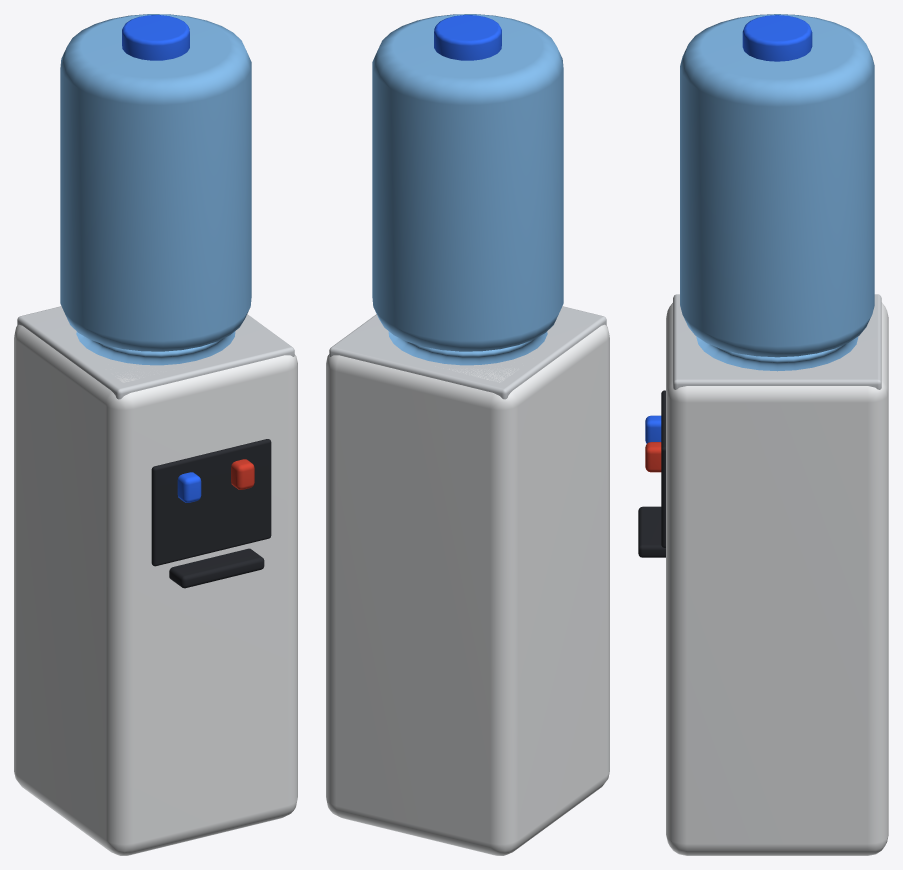
File: watercooler.glb
3 views of the same model, side by side, from view 1: azimuth 30°, elevation 25°; view 2: azimuth 150°, elevation 25°; view 3: azimuth 270°, elevation 25° (orthographic).
Parts seen in each view (by area): view 1: Cube, Cone, Cube.002, Cube.001, Cone.002, Cube.003, Cube.004; view 2: Cube, Cone, Cube.001, Cone.002; view 3: Cube, Cone, Cube.001, Cone.002, Cube.002, Cube.004.
Part boxes in pixels (box(x1,y1,x2,y2)): Cube: box(14, 324, 297, 855); Cone: box(60, 14, 251, 365); Cube.002: box(151, 439, 271, 588); Cube.001: box(17, 306, 294, 399); Cone.002: box(122, 15, 189, 60); Cube.003: box(177, 472, 201, 502); Cube.004: box(231, 459, 254, 489); Cube: box(326, 324, 609, 855); Cone: box(372, 14, 563, 365); Cube.001: box(329, 306, 606, 399); Cone.002: box(434, 15, 501, 60); Cube: box(666, 302, 888, 855); Cone: box(680, 14, 874, 371); Cube.001: box(673, 294, 881, 389); Cone.002: box(742, 15, 812, 61); Cube.002: box(638, 390, 665, 557); Cube.004: box(645, 442, 661, 472).
Bounding box in the file's own units: 0.32 × 1.25 × 0.36.
